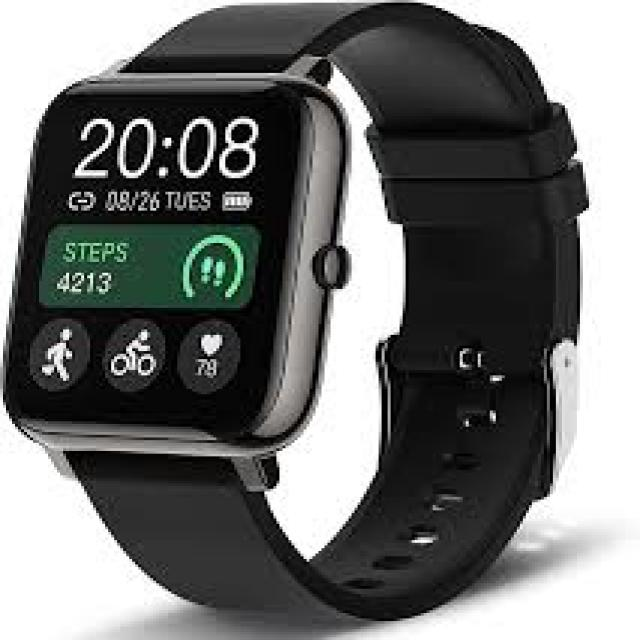objects: (6, 3, 586, 618)
